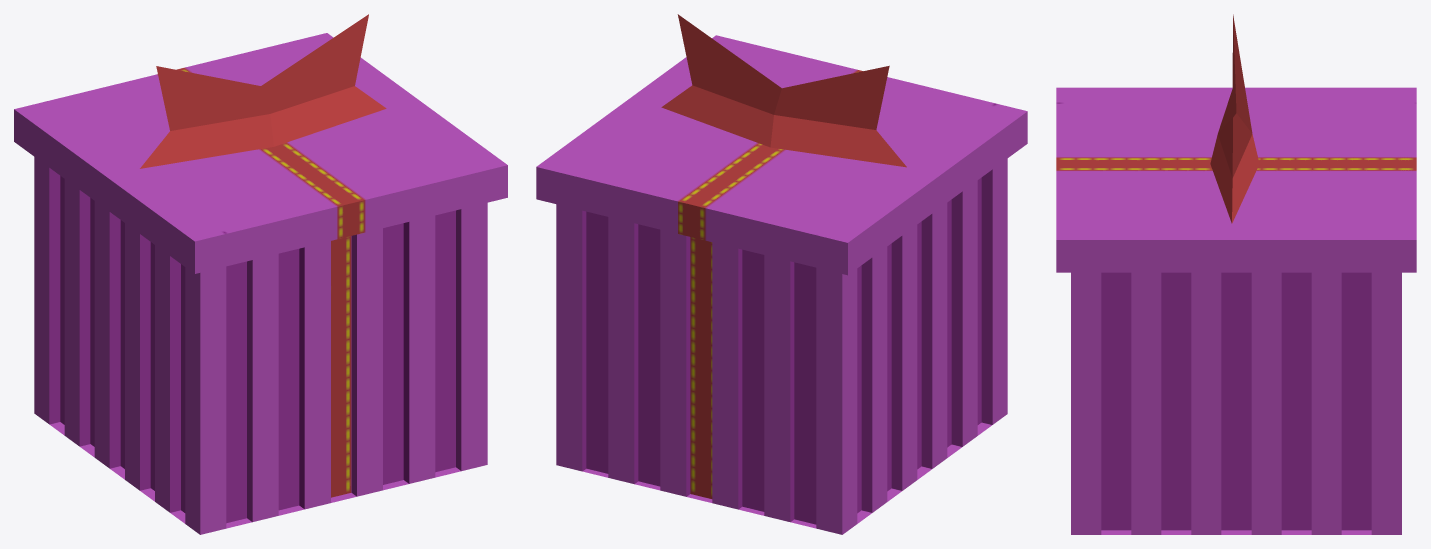
Rendered from Regalo.fbx.
3 renders of one model, left to right at view 1: azimuth 30°, elevation 25°; view 2: azimuth 150°, elevation 25°; view 3: azimuth 270°, elevation 25°, orthographic.
Visible parts, largest first — view 1: Cube.006; view 2: Cube.006; view 3: Cube.006.
Part boxes in pixels (left/top/right/bottom): Cube.006: left=14, top=14, right=507, bottom=534; Cube.006: left=536, top=14, right=1027, bottom=534; Cube.006: left=1056, top=14, right=1416, bottom=534.
Size of the model in its own units: 436 by 436 by 533.
1 material, 1 textured.
